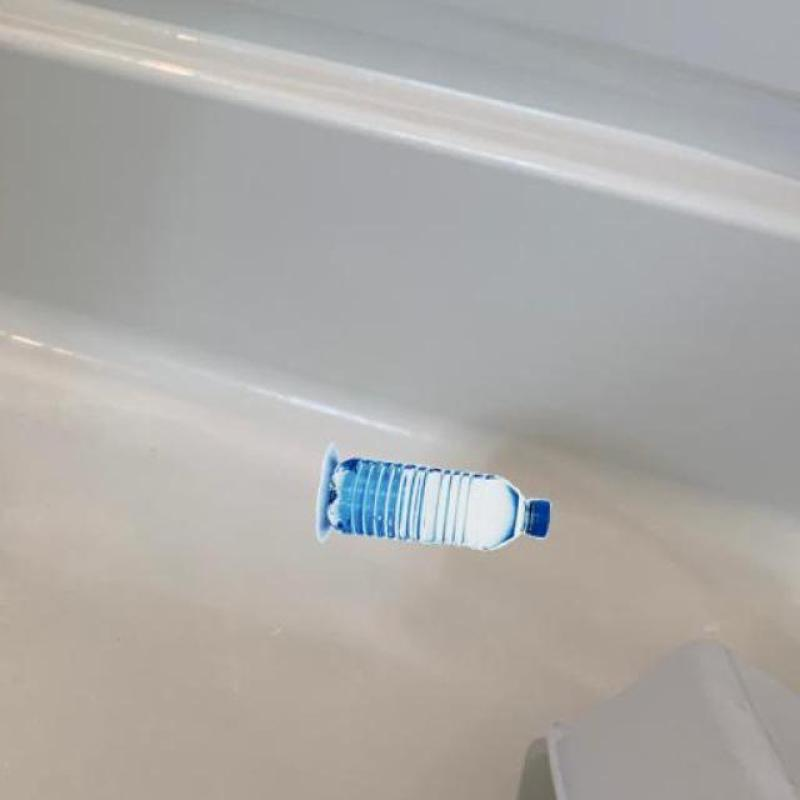botella: (327, 460, 547, 551)
